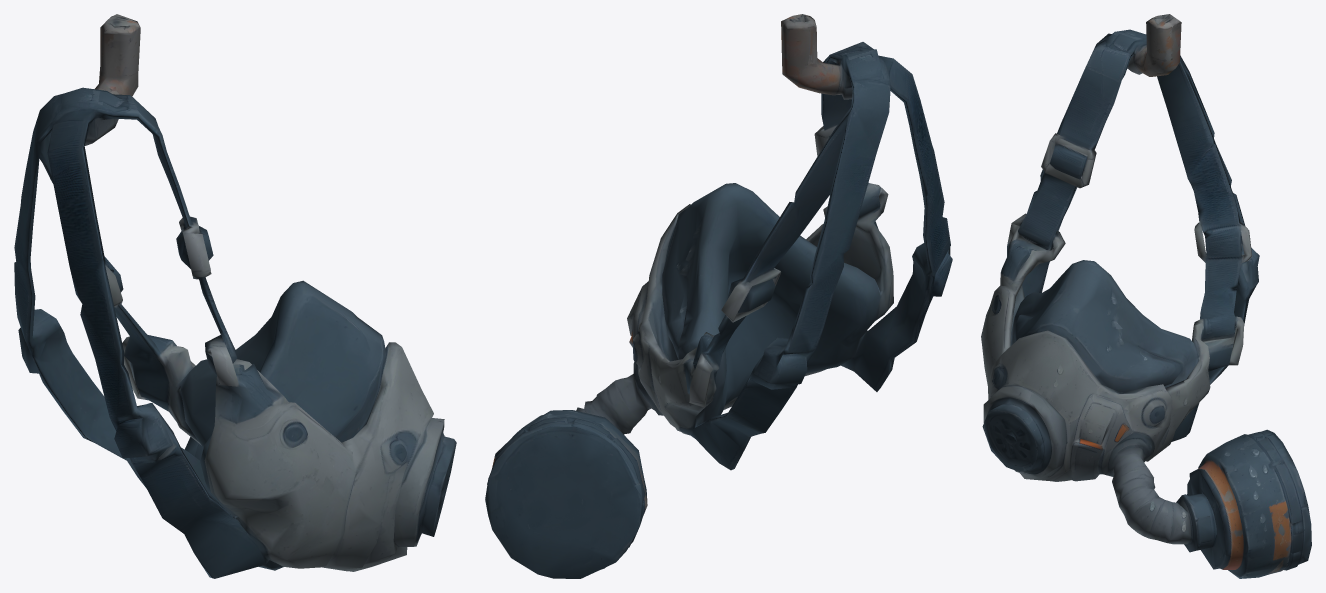
File: mask.glb
3 views of the same model, side by side, from view 1: azimuth 30°, elevation 25°; view 2: azimuth 150°, elevation 25°; view 3: azimuth 270°, elevation 25° (orthographic). The views are drawn at different scales.
Visible parts, largest first — view 1: tripo_node_12730c22-1ad0-4e7b-ad3a-98e1e8bdb5d5; view 2: tripo_node_12730c22-1ad0-4e7b-ad3a-98e1e8bdb5d5; view 3: tripo_node_12730c22-1ad0-4e7b-ad3a-98e1e8bdb5d5.
Boxes of the visible parts, x1,y1,x2,y2 form: tripo_node_12730c22-1ad0-4e7b-ad3a-98e1e8bdb5d5: (14,14,456,578); tripo_node_12730c22-1ad0-4e7b-ad3a-98e1e8bdb5d5: (485,14,952,578); tripo_node_12730c22-1ad0-4e7b-ad3a-98e1e8bdb5d5: (981,14,1311,578).
Size of the model in its own units: 0.1921 by 0.3 by 0.1889.
1 material, 1 textured.
